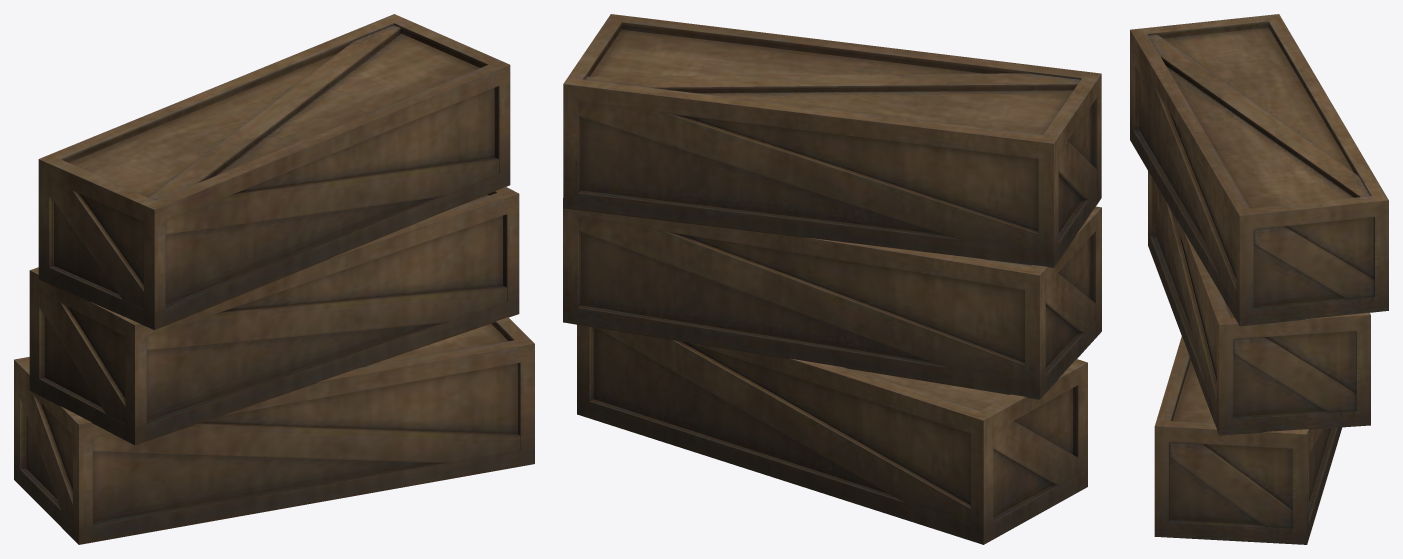
The model's file is SM_crate_group_01.glb.
3 views of the same model, side by side, from view 1: azimuth 30°, elevation 25°; view 2: azimuth 150°, elevation 25°; view 3: azimuth 270°, elevation 25° (orthographic). The views are drawn at different scales.
Visible parts, largest first — view 1: SM_crate_group_01; view 2: SM_crate_group_01; view 3: SM_crate_group_01.
Boxes of the visible parts, box(x1,y1,x2,y2) form: SM_crate_group_01: box(14, 14, 534, 544); SM_crate_group_01: box(563, 14, 1101, 544); SM_crate_group_01: box(1130, 14, 1388, 544).
Bounding box in the file's own units: 1.91 × 1.46 × 1.04.
Materials: 1 (1 with a texture image).
